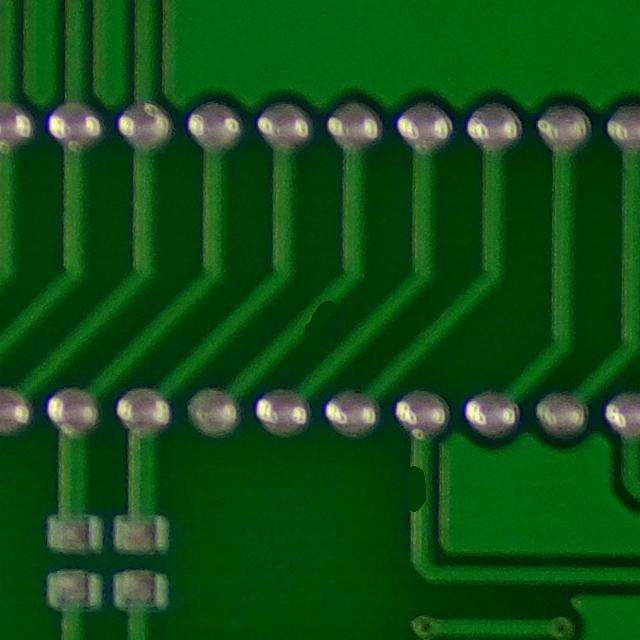mouse_bite: (289, 295, 351, 346)
